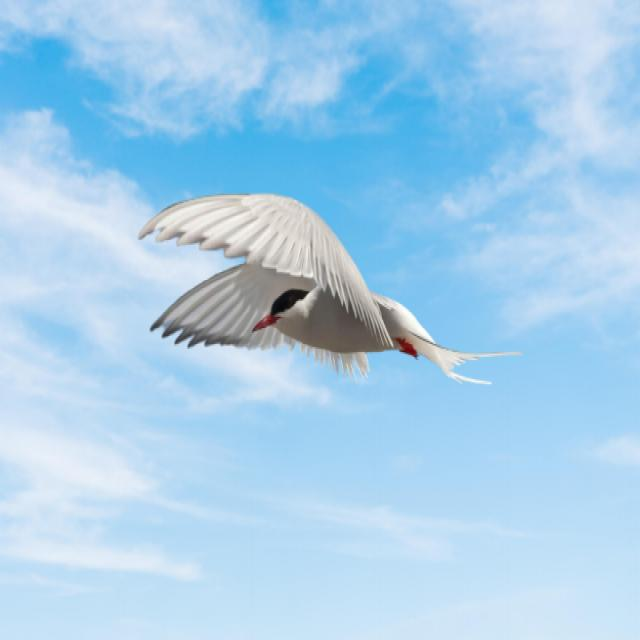birds: (121, 184, 522, 400)
